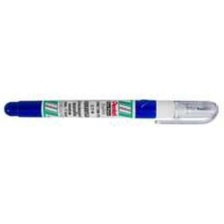correction_fluid: (3, 96, 222, 126)
